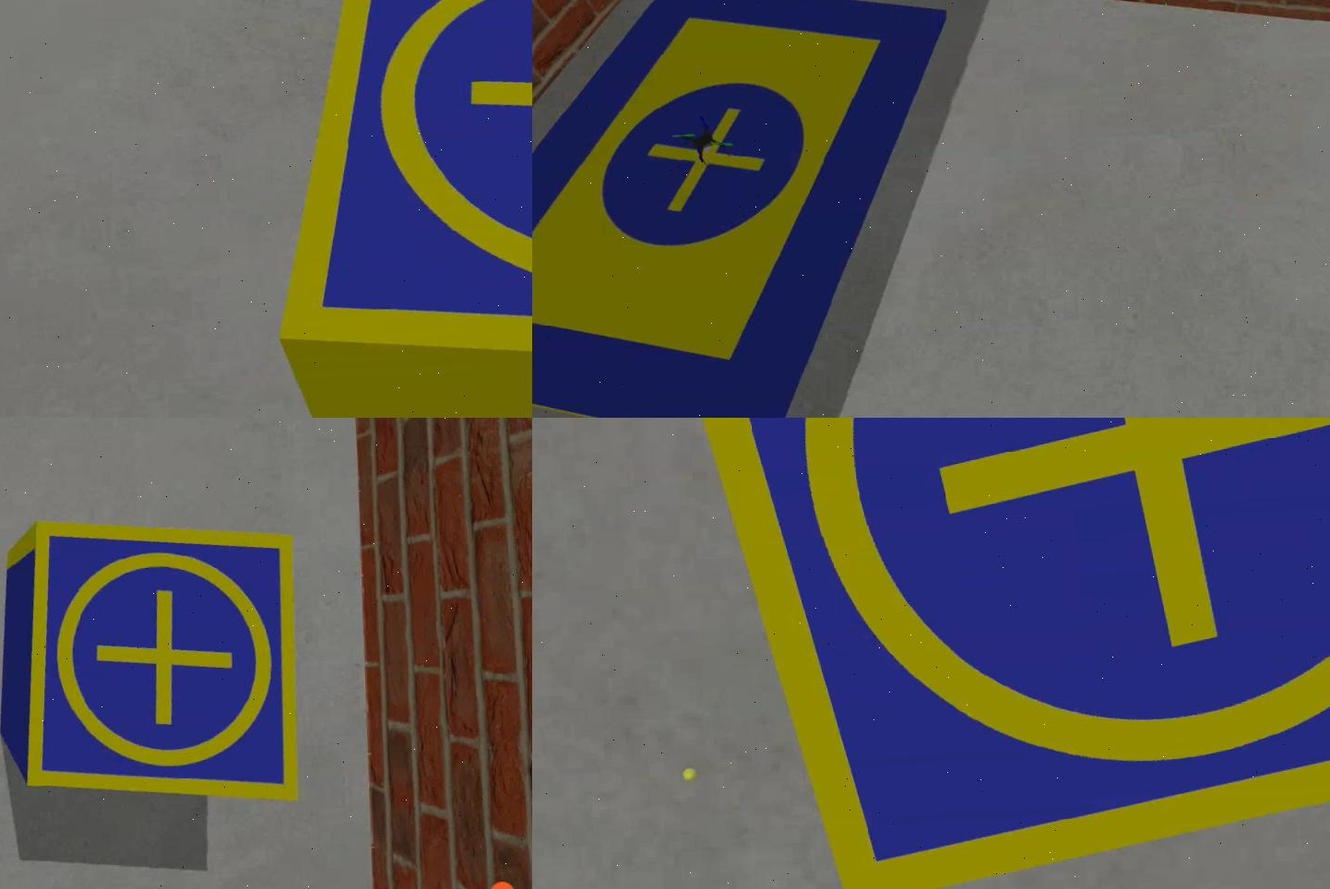large_base: (531, 1, 973, 419)
small_base: (600, 419, 1328, 889), (253, 1, 531, 419), (5, 509, 305, 819)
